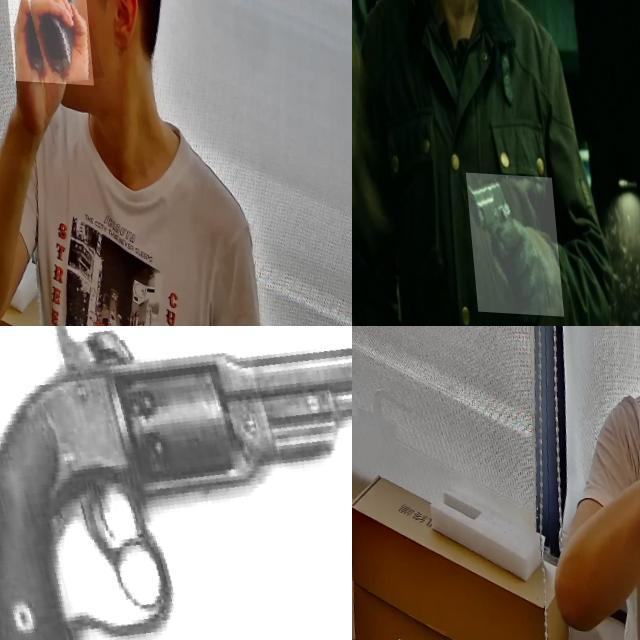gun-knife-thesis - v11 Yolov5 augmented: (0, 326, 352, 640), (458, 168, 554, 312), (0, 0, 88, 132)
